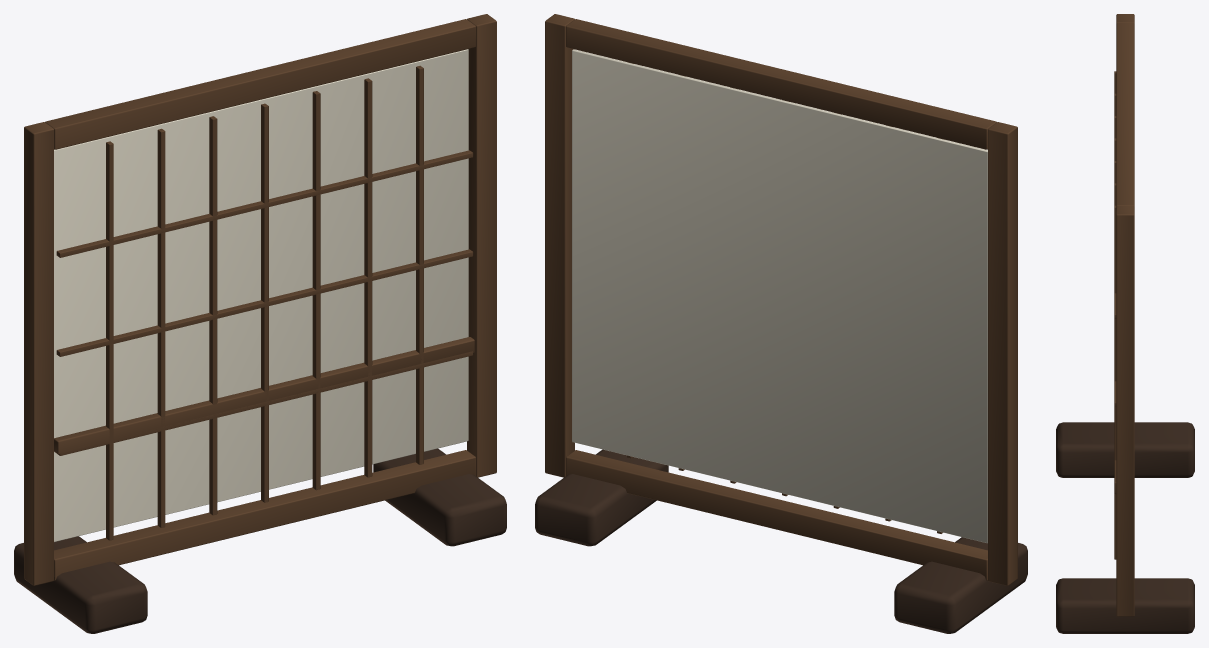
The model's file is kominka-tsuitate-01.glb.
3 views of the same model, side by side, from view 1: azimuth 30°, elevation 25°; view 2: azimuth 150°, elevation 25°; view 3: azimuth 270°, elevation 25° (orthographic). The views are drawn at different scales.
Visible parts, largest first — view 1: kominka-tsuitate-01; view 2: kominka-tsuitate-01; view 3: kominka-tsuitate-01.
Part boxes in pixels (x1,y1,x2,y2): kominka-tsuitate-01: (14,14,506,633); kominka-tsuitate-01: (535,14,1027,633); kominka-tsuitate-01: (1056,14,1194,633).
Bounding box in the file's own units: 1.2 × 1.2 × 0.35.
